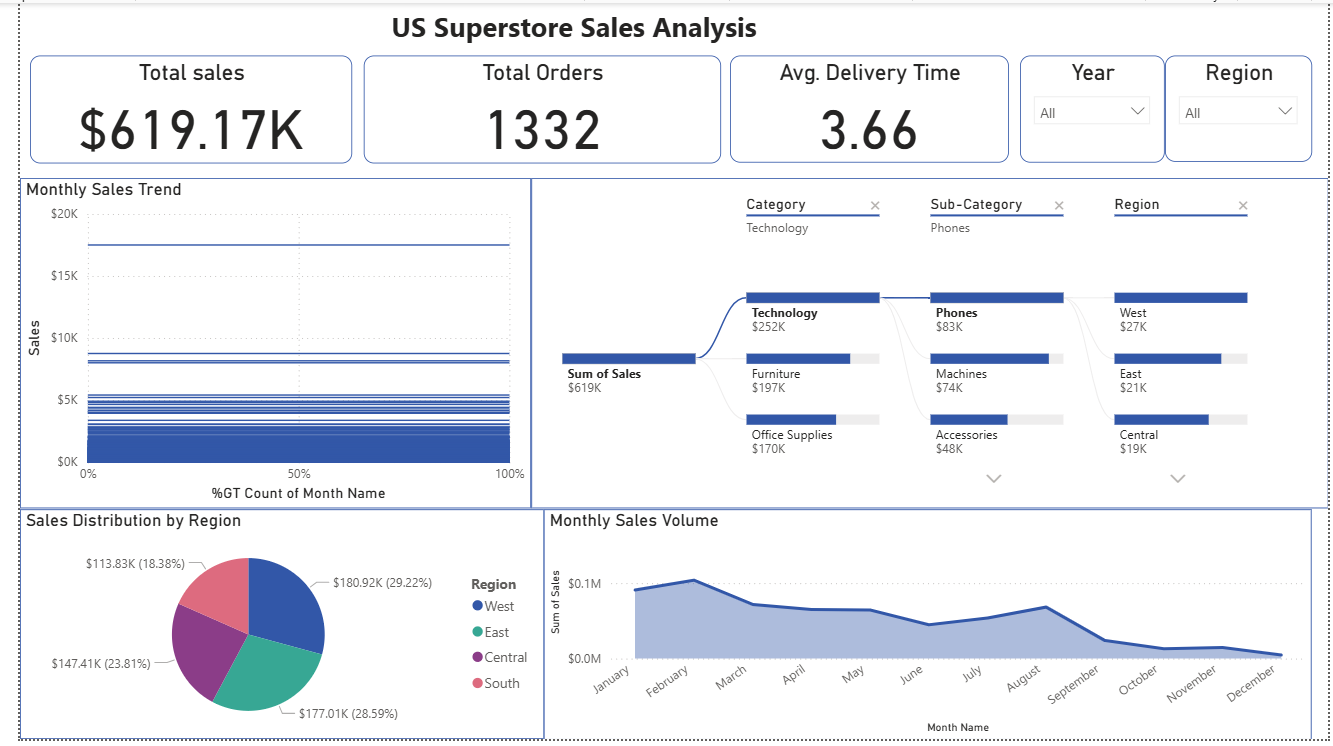

What the dashboard file says about the page in this screenshot:
{"tool":"powerbi","page":{"name":"Page 1","canvas":[1280,720],"ordinal":0},"visuals":[{"type":"barChart","title":"Monthly Sales Trend","fields":{"Category":["train.Sales"],"Y":["CountNonNull(Calendar.Month Name)"]},"box":[0,171.2,500.1,322.8],"z":0},{"type":"slicer","title":"Year","fields":{"Values":["Calendar.Year"]},"box":[978.8,51.2,141.2,105],"z":1000},{"type":"pieChart","title":"Sales Distribution by Region","fields":{"Category":["train.Region"],"Y":["Sum(train.Sales)"]},"box":[0,495,512.5,225],"z":2000},{"type":"decompositionTreeVisual","title":"Sales Breakdown by Category & Region","fields":{"Analyze":["Sum(train.Sales)"],"ExplainBy":["train.Category","train.Sub-Category","train.Region"]},"box":[500.1,171.2,780.2,322.8],"z":3000},{"type":"textbox","box":[358.1,0,410.3,50.8],"z":4000},{"type":"card","title":"Total sales","fields":{"Values":["Sum(train.Sales)"]},"box":[10,51.3,315,105.5],"z":5000},{"type":"card","title":"Total Orders","fields":{"Values":["Count(train.Order ID)"]},"box":[336.4,51.3,349.2,105.5],"z":6000},{"type":"card","title":"Avg. Delivery Time","fields":{"Values":["Avg(train.Shipping Days)"]},"box":[695,51.2,272.5,105],"z":7000},{"type":"slicer","title":"Region","fields":{"Values":["train.Region"]},"box":[1120,51.2,143.8,103.8],"z":8000},{"type":"areaChart","title":"Monthly Sales Volume","fields":{"Category":["Calendar.Month Name"],"Y":["Sum(train.Sales)"]},"box":[512,494.9,750.9,225.3],"z":9000}]}

Visuals, with their boxes in screenshot pixels (x1, y1, x2, y2), scaled from the page's 1280x720 canvas onto the 1333x746 screenshot:
"Monthly Sales Trend" barChart: box=[0, 177, 521, 512]
"Year" slicer: box=[1019, 53, 1166, 162]
"Sales Distribution by Region" pieChart: box=[0, 513, 534, 745]
"Sales Breakdown by Category & Region" decompositionTreeVisual: box=[521, 177, 1332, 512]
textbox: box=[373, 0, 800, 53]
"Total sales" card: box=[10, 53, 338, 162]
"Total Orders" card: box=[350, 53, 714, 162]
"Avg. Delivery Time" card: box=[724, 53, 1008, 162]
"Region" slicer: box=[1166, 53, 1316, 161]
"Monthly Sales Volume" areaChart: box=[533, 513, 1315, 745]
